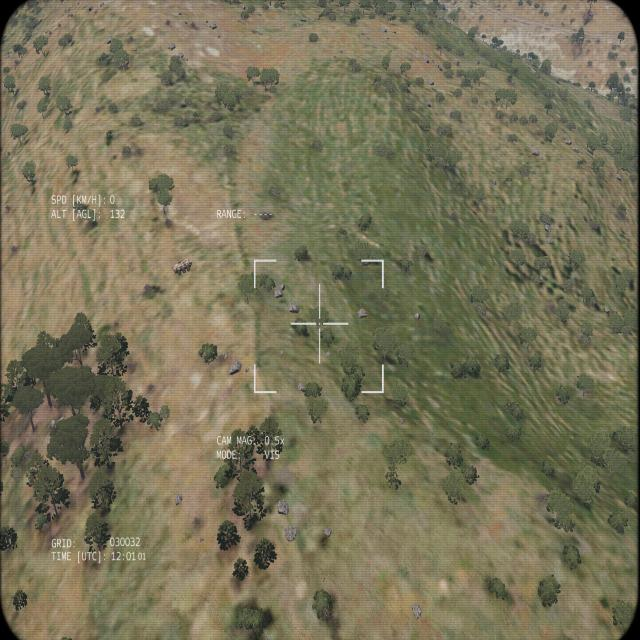apc: (172, 255, 192, 275)
